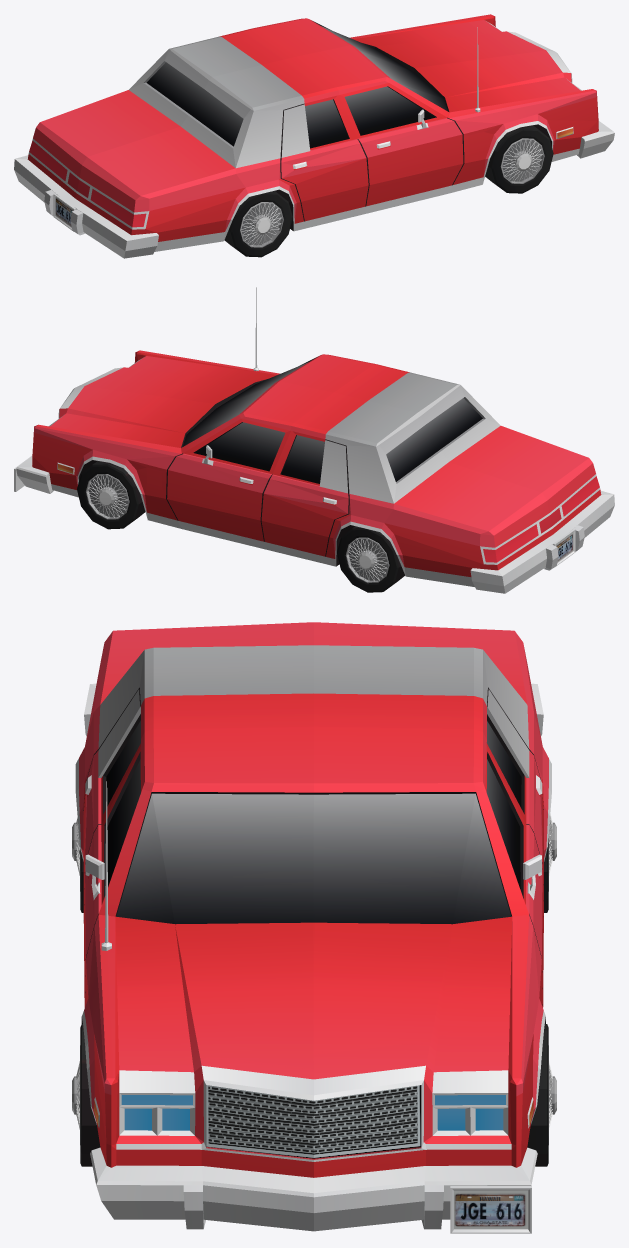
File: Crysler_new_yorker.glb
3 views of the same model, one above another, from view 1: azimuth 30°, elevation 25°; view 2: azimuth 150°, elevation 25°; view 3: azimuth 270°, elevation 25° (orthographic). The views are drawn at different scales.
Parts seen in each view (by area): view 1: Crysler, Tire_front_L_3; view 2: Crysler, Tire_front_L_3; view 3: Crysler, Tire_front_L_3.
Part boxes in pixels (<box>): Crysler: <box>14,14,614,258</box>; Tire_front_L_3: <box>224,125,553,257</box>; Crysler: <box>14,287,614,593</box>; Tire_front_L_3: <box>77,461,404,592</box>; Crysler: <box>75,622,551,1233</box>; Tire_front_L_3: <box>72,813,556,1166</box>.
Bounding box in the file's own units: 4.94 × 1.58 × 2.03.
Materials: 1 (1 with a texture image).
